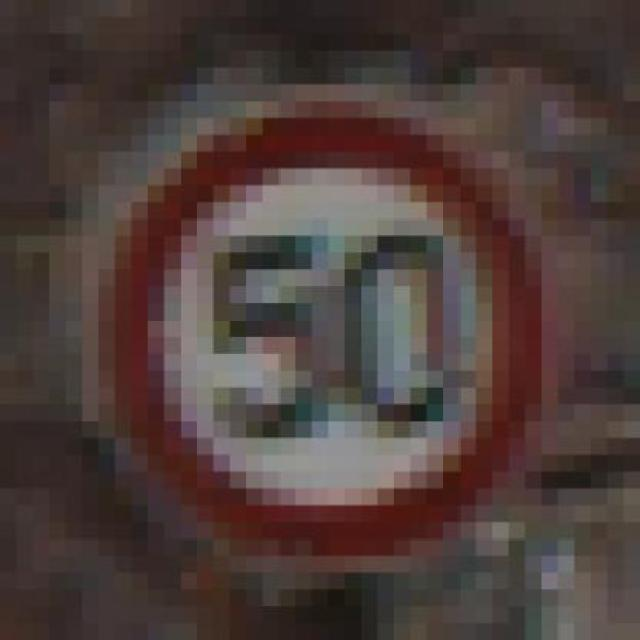50 mph speed limit: (94, 83, 571, 572)
